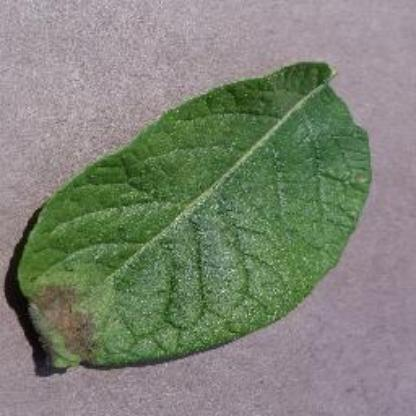Late-Blight: (13, 53, 379, 378)
